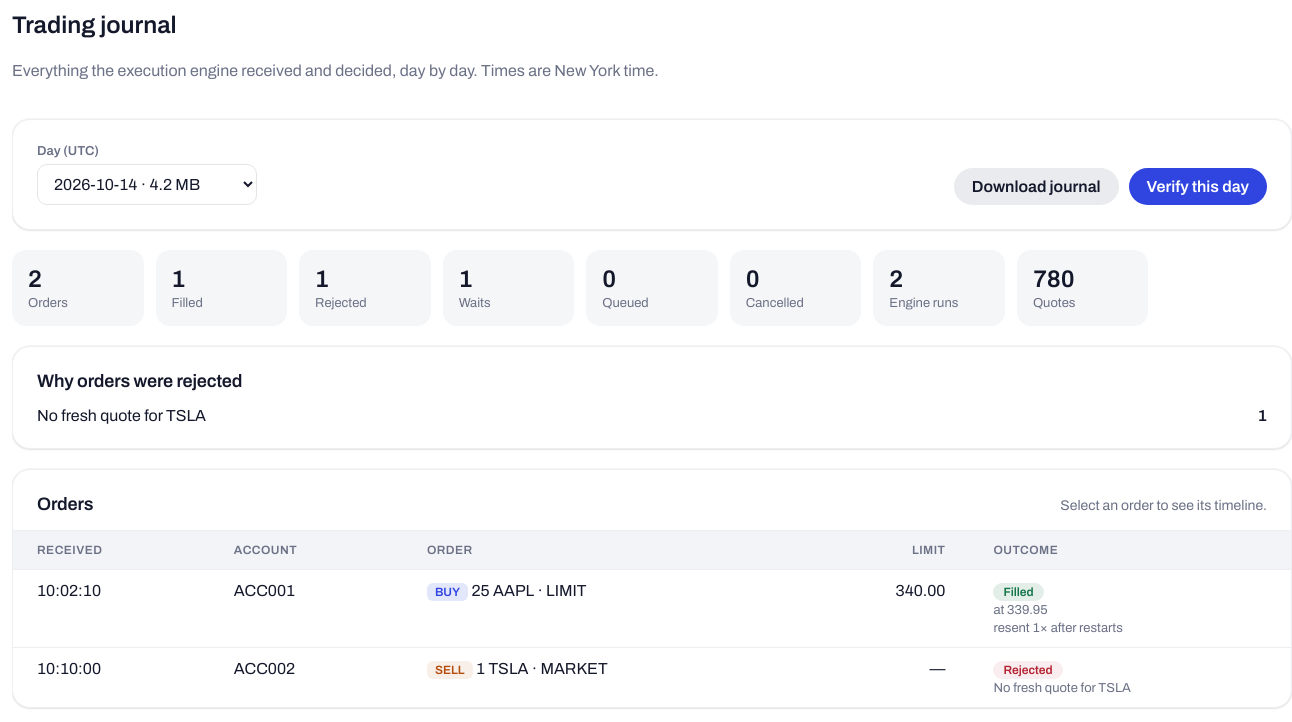
Test: AdminJournalComponent › reports a verify that matches
The width and height of the screenshot is (1292, 722).
Click the button "Verify this day" at (1198, 186), box [1129,168,1267,205]
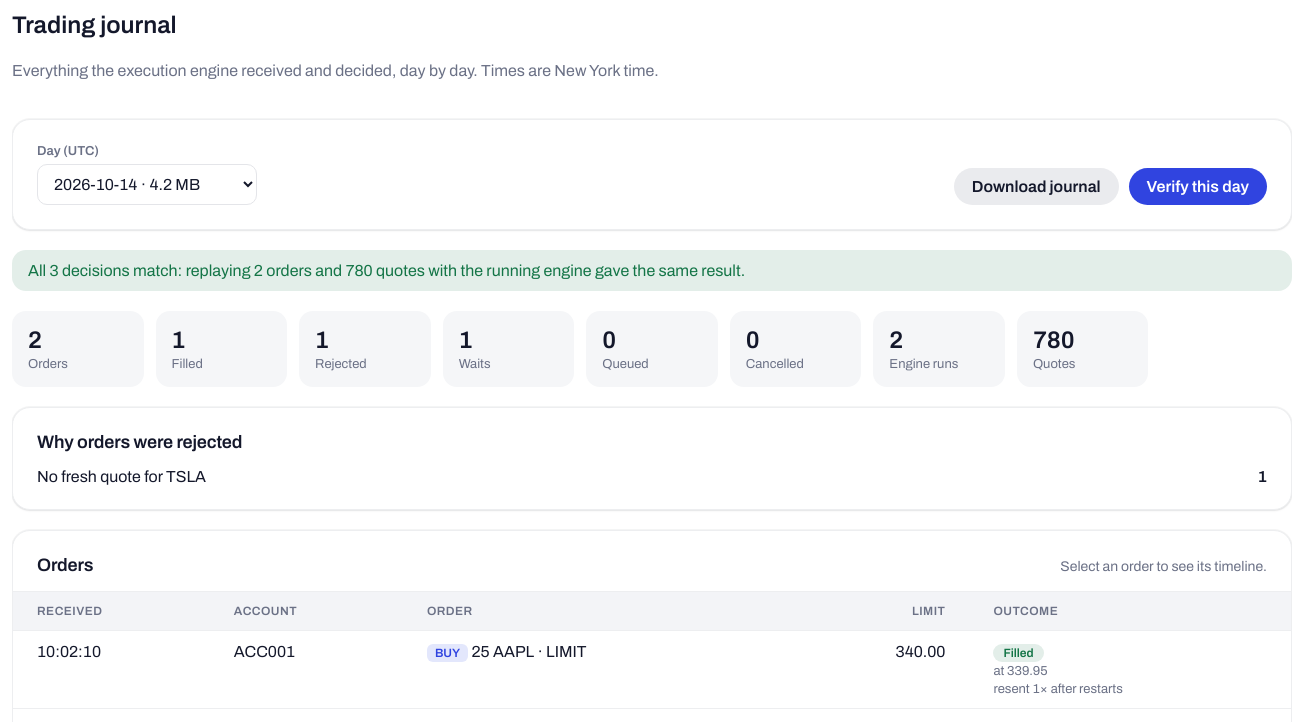
Now the text with class "good" shows "All 3 decisions match", box [28,262,745,279]
